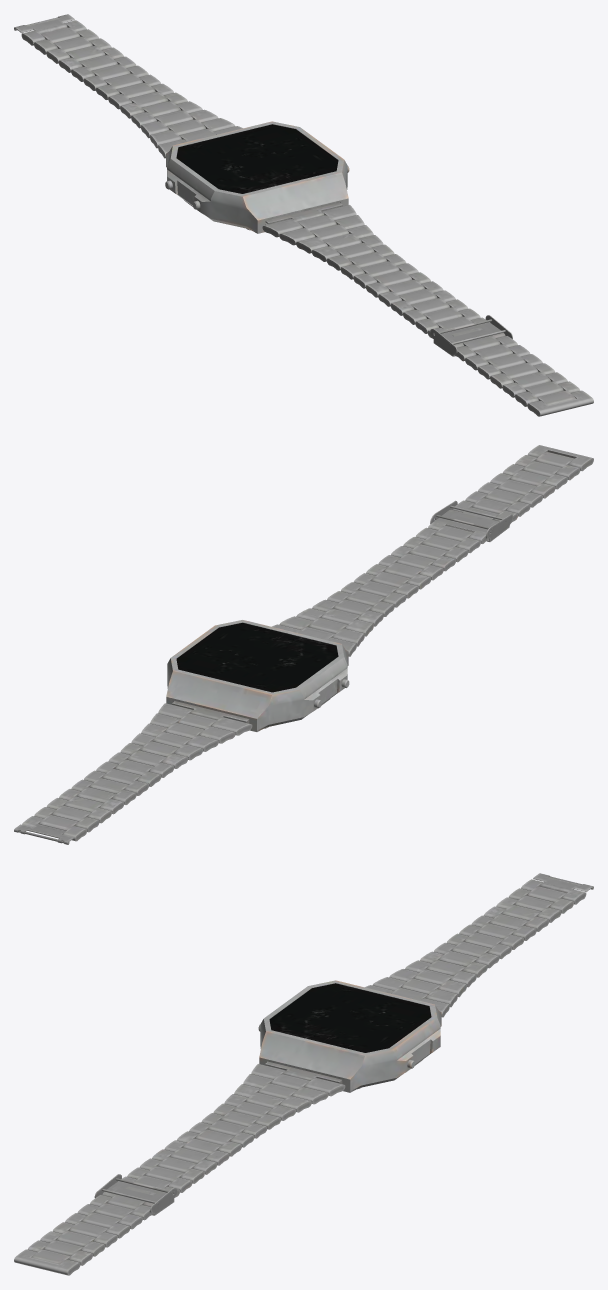
The model's file is digital_wrist_watch.glb.
3 renders of one model, top to bottom at view 1: azimuth 30°, elevation 25°; view 2: azimuth 150°, elevation 25°; view 3: azimuth 330°, elevation 25°, orthographic.
Visible parts, largest first — view 1: digital_wrist_watch; view 2: digital_wrist_watch; view 3: digital_wrist_watch.
Boxes of the visible parts, x1,y1,x2,y2 form: digital_wrist_watch: (14,14,593,416); digital_wrist_watch: (14,445,593,844); digital_wrist_watch: (14,873,593,1275).
Bounding box in the file's own units: 0.0365 × 0.00835 × 0.2172.
Materials: 2 (2 with a texture image).
